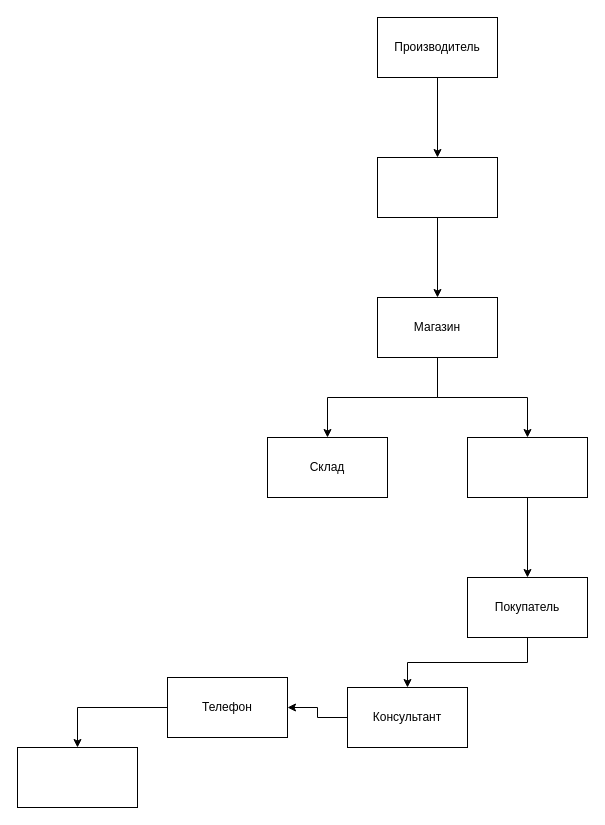
The diagram is 605 pixels wide and 825 high, and some of its shapes have lost their labels. Here are the shapes that lost their labels. From the top down, the centre of each, then its label:
(437,187): Поставщик
(527,467): Шоу рум
(77,777): Продажа телефона
